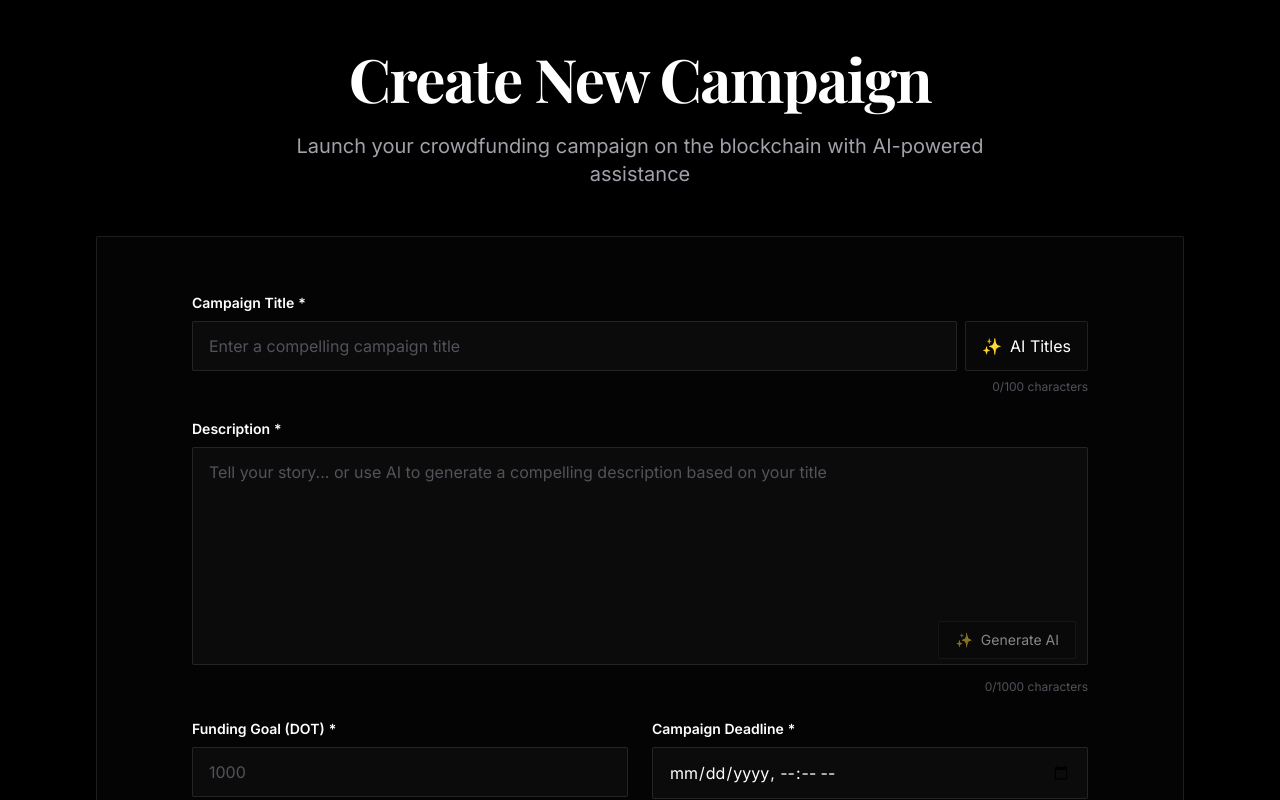
Test case: Campaign Creation Integration Tests › User Experience › should disable AI description button when title is empty
Expected: the button with aria-label "generate ai description from title" is disabled, [938,621,1076,659]
// Fill title
Type "Save the Ocean" into the field with placeholder "Enter a compelling campaign title" at (575, 346), box [192,321,957,371]
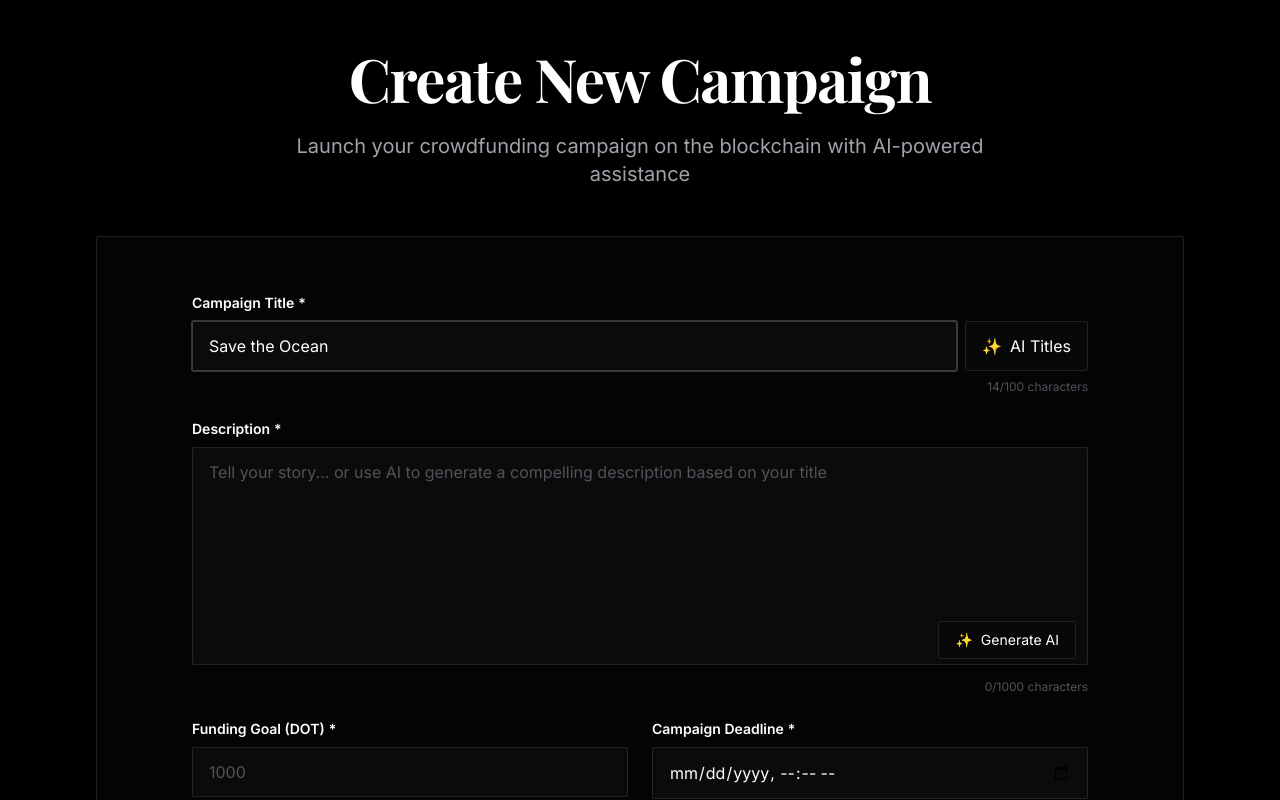
Expected: the button with aria-label "generate ai description from title" is enabled, [938,621,1076,659]
